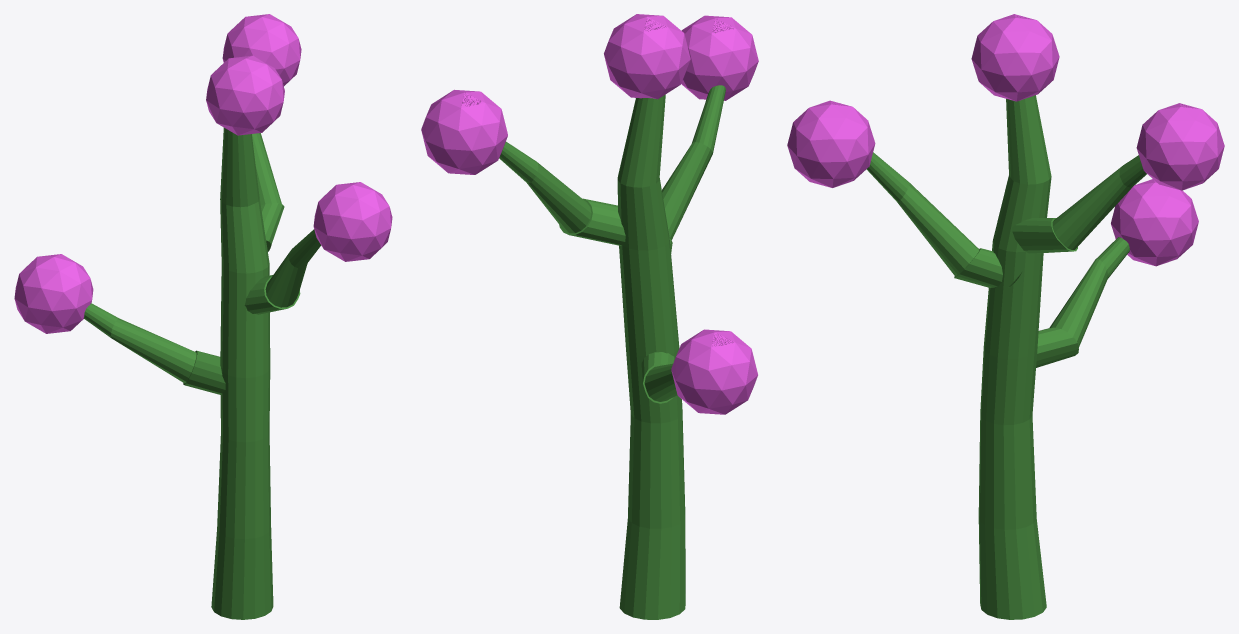
File: singlePlantGlow.fbx
3 renders of one model, left to right at view 1: azimuth 30°, elevation 25°; view 2: azimuth 150°, elevation 25°; view 3: azimuth 270°, elevation 25°, orthographic. The views are drawn at different scales.
Visible parts, largest first — view 1: singlePlant; view 2: singlePlant; view 3: singlePlant.
Boxes of the visible parts, <box> form: singlePlant: <box>14,14,392,619</box>; singlePlant: <box>421,14,758,619</box>; singlePlant: <box>787,14,1224,619</box>.
Bounding box in the file's own units: 0.4753 × 0.8604 × 0.578.
